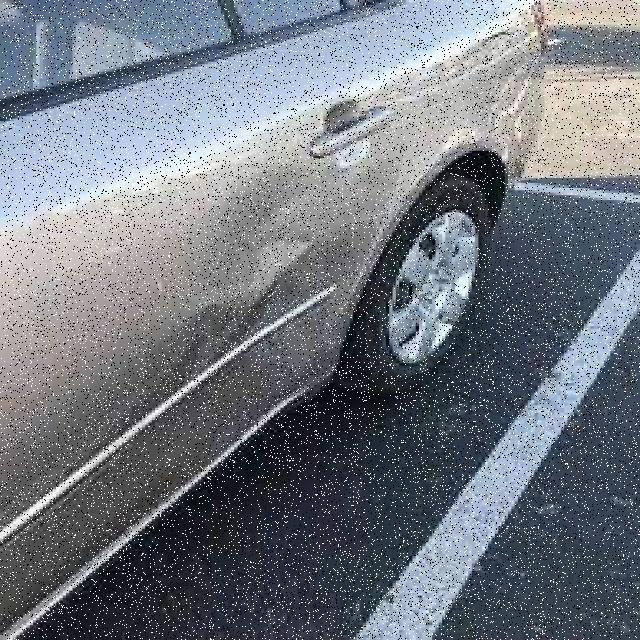fender: (3, 59, 376, 492)
